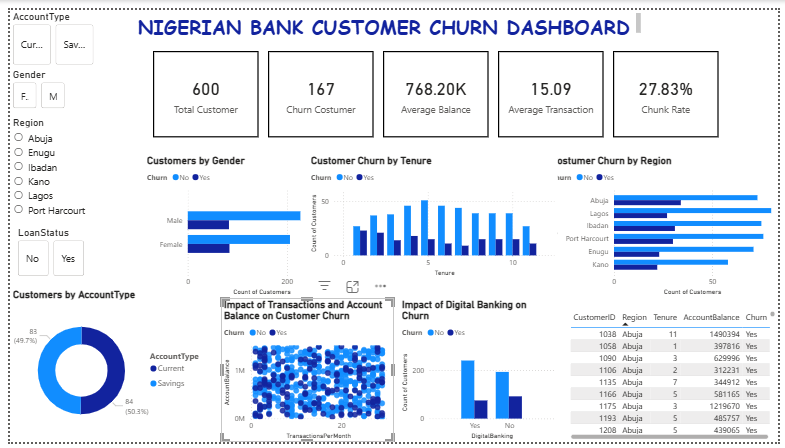

The page's visual inventory and layout, read from the dashboard file:
{"tool":"powerbi","page":{"name":"Page 1","canvas":[1280,720],"ordinal":0},"visuals":[{"type":"card","fields":{"Values":["nigerian_bank_churn_600.Total Customer"]},"box":[237.8,68.7,176,144],"z":0},{"type":"card","fields":{"Values":["nigerian_bank_churn_600.Churn Costumer"]},"box":[429.8,68.7,176,144],"z":1000},{"type":"card","fields":{"Values":["nigerian_bank_churn_600.Average Balance"]},"box":[621.8,68.7,176,144],"z":2000},{"type":"card","fields":{"Values":["nigerian_bank_churn_600.Average Transaction"]},"box":[813.8,68.7,176,144],"z":3000},{"type":"card","fields":{"Values":["nigerian_bank_churn_600.Chunk Rate"]},"box":[1005.8,68.7,176,144],"z":4000},{"type":"clusteredBarChart","title":"Costumer Churn by Region","fields":{"Category":["nigerian_bank_churn_600.Region"],"Series":["nigerian_bank_churn_600.Churn"],"Y":["nigerian_bank_churn_600.Count of Customers"]},"box":[896,240,384,240],"z":5000},{"type":"donutChart","title":"Customers by AccountType","fields":{"Category":["nigerian_bank_churn_600.AccountType"],"Series":["nigerian_bank_churn_600.Churn"],"Y":["nigerian_bank_churn_600.Count of Customers"]},"box":[0,464,336,256],"z":6000},{"type":"clusteredBarChart","title":"Customers by Gender","fields":{"Series":["nigerian_bank_churn_600.Churn"],"Y":["nigerian_bank_churn_600.Count of Customers"],"Category":["nigerian_bank_churn_600.Gender"]},"box":[224,240,336,240],"z":7000},{"type":"clusteredColumnChart","title":"Customer Churn by Tenure","fields":{"Category":["nigerian_bank_churn_600.Tenure"],"Series":["nigerian_bank_churn_600.Churn"],"Y":["nigerian_bank_churn_600.Count of Customers"]},"box":[496,240,416,208],"z":8000},{"type":"scatterChart","title":"Impact of Transactions and Account Balance on Customer Churn","fields":{"X":["nigerian_bank_churn_600.TransactionsPerMonth"],"Y":["nigerian_bank_churn_600.AccountBalance"],"Series":["nigerian_bank_churn_600.Churn"]},"box":[352,480,288,240],"z":9000},{"type":"clusteredColumnChart","title":"Impact of Digital Banking on Churn","fields":{"Series":["nigerian_bank_churn_600.Churn"],"Y":["nigerian_bank_churn_600.Count of Customers"],"Category":["nigerian_bank_churn_600.DigitalBanking"]},"box":[648,480,264,240],"z":10000},{"type":"tableEx","fields":{"Values":["nigerian_bank_churn_600.CustomerID","nigerian_bank_churn_600.Region","nigerian_bank_churn_600.Tenure","nigerian_bank_churn_600.AccountBalance","nigerian_bank_churn_600.Churn"]},"box":[928,496,352,224],"z":11000},{"type":"advancedSlicerVisual","fields":{"Values":["nigerian_bank_churn_600.Gender"]},"box":[0,96,96,72],"z":12000},{"type":"listSlicer","fields":{"Values":["nigerian_bank_churn_600.Region"]},"box":[0,176,136,224],"z":13000},{"type":"advancedSlicerVisual","fields":{"Values":["nigerian_bank_churn_600.AccountType"]},"box":[0,0,144,96],"z":14000},{"type":"advancedSlicerVisual","fields":{"Values":["nigerian_bank_churn_600.LoanStatus"]},"box":[8,360,120,88],"z":15000},{"type":"textbox","box":[208,0,848,48],"z":16000}]}

Visuals, with their boxes in screenshot pixels (x1, y1, x2, y2), scaled from the page's 1280x720 canvas onto the 785x448 screenshot:
card - nigerian_bank_churn_600.Total Customer: bbox(146, 43, 254, 132)
card - nigerian_bank_churn_600.Churn Costumer: bbox(264, 43, 372, 132)
card - nigerian_bank_churn_600.Average Balance: bbox(381, 43, 489, 132)
card - nigerian_bank_churn_600.Average Transaction: bbox(499, 43, 607, 132)
card - nigerian_bank_churn_600.Chunk Rate: bbox(617, 43, 725, 132)
"Costumer Churn by Region" clusteredBarChart: bbox(550, 149, 784, 299)
"Customers by AccountType" donutChart: bbox(0, 289, 206, 447)
"Customers by Gender" clusteredBarChart: bbox(137, 149, 343, 299)
"Customer Churn by Tenure" clusteredColumnChart: bbox(304, 149, 559, 279)
"Impact of Transactions and Account Balance on Customer Churn" scatterChart: bbox(216, 299, 392, 447)
"Impact of Digital Banking on Churn" clusteredColumnChart: bbox(397, 299, 559, 447)
tableEx - nigerian_bank_churn_600.CustomerID x nigerian_bank_churn_600.Region: bbox(569, 309, 784, 447)
advancedSlicerVisual - nigerian_bank_churn_600.Gender: bbox(0, 60, 59, 105)
listSlicer - nigerian_bank_churn_600.Region: bbox(0, 110, 83, 249)
advancedSlicerVisual - nigerian_bank_churn_600.AccountType: bbox(0, 0, 88, 60)
advancedSlicerVisual - nigerian_bank_churn_600.LoanStatus: bbox(5, 224, 78, 279)
textbox: bbox(128, 0, 648, 30)
